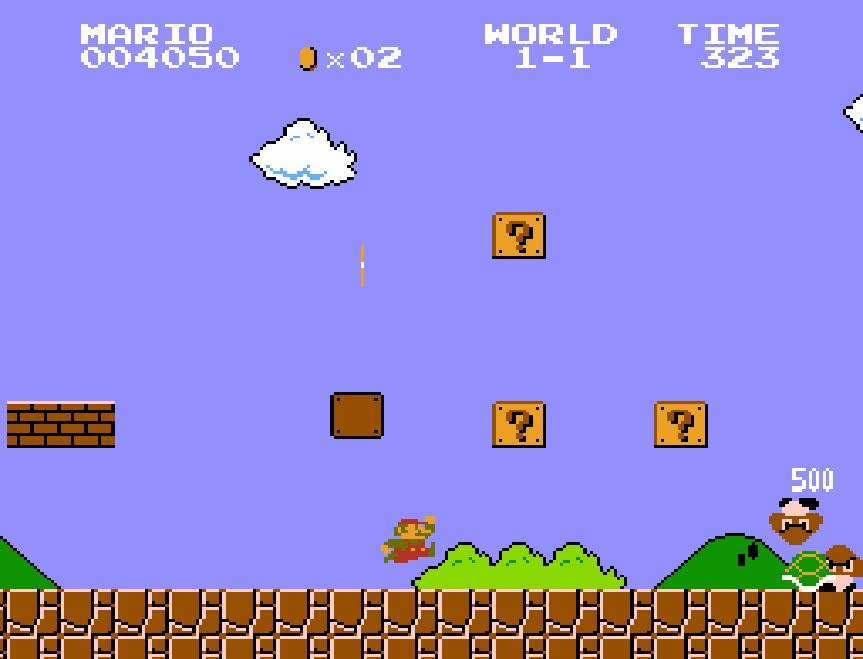little_mario: (379, 514, 437, 564)
